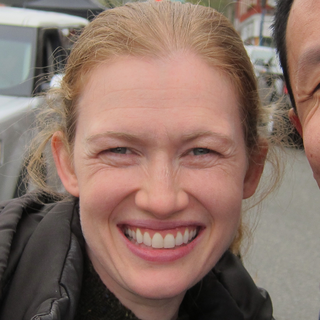eye: (93, 141, 145, 164), (176, 141, 226, 164)
